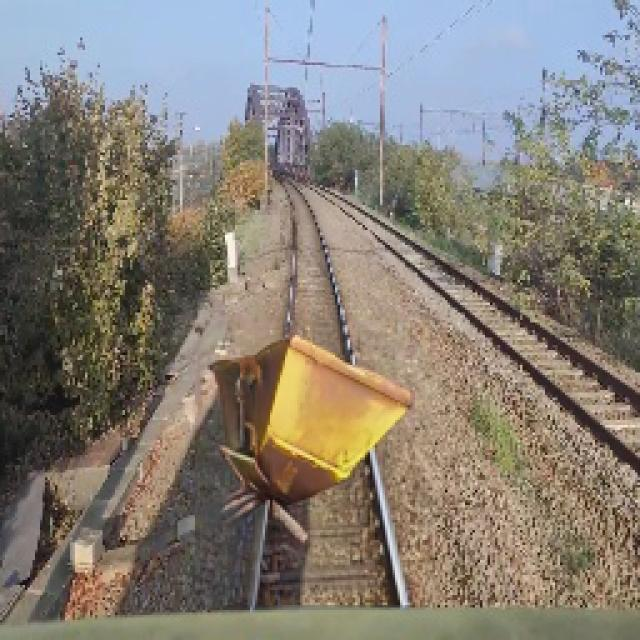danger: (194, 330, 420, 535)
rail: (291, 176, 640, 513), (208, 171, 455, 615)
